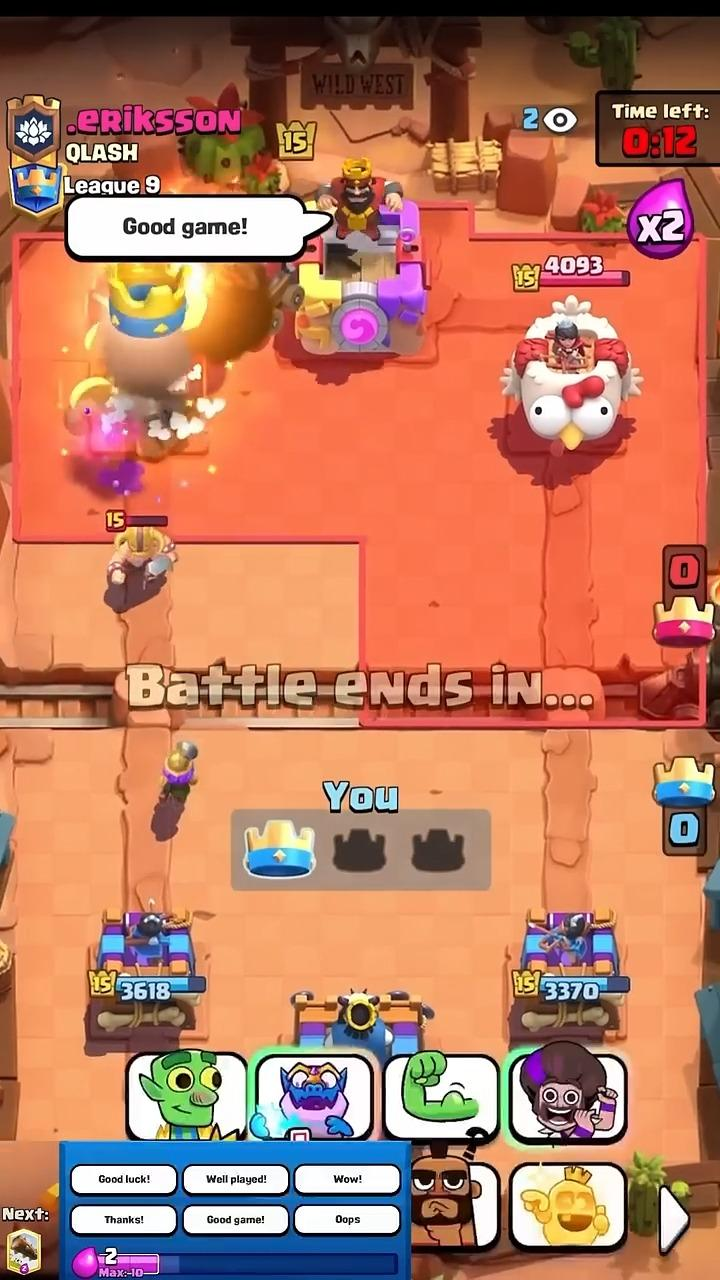elite barbarians: (109, 527, 176, 584)
musketeer: (156, 742, 196, 817)
sparky: (217, 264, 303, 340)
